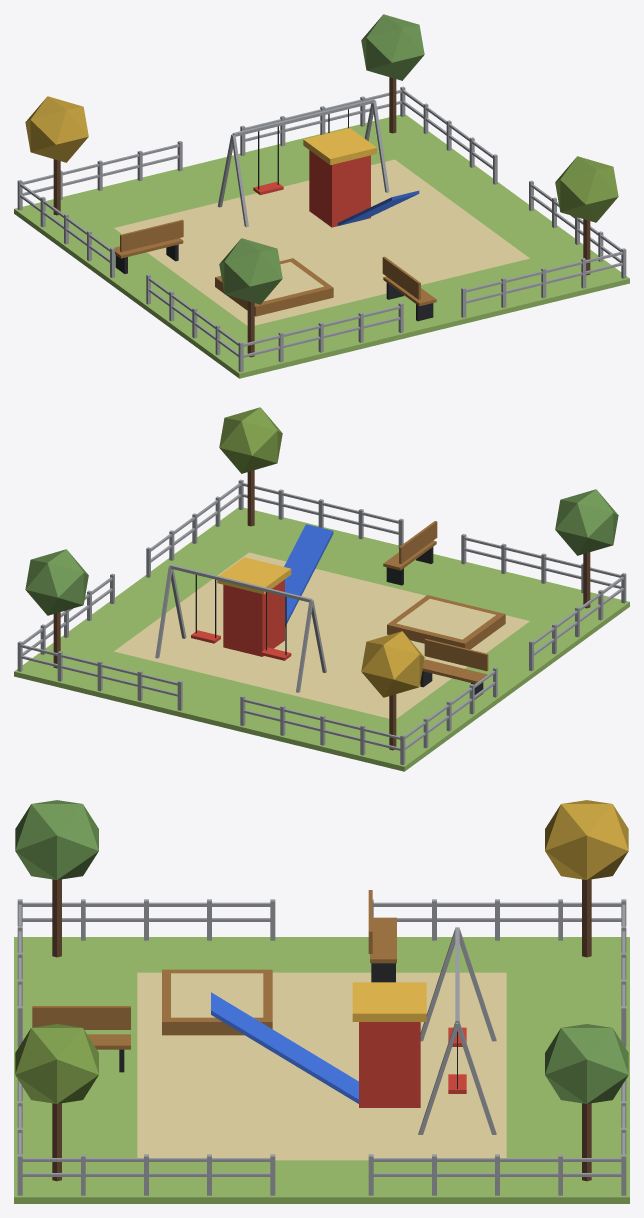
File: Avlu_oyun_Hafif.fbx
3 views of the same model, one above another, from view 1: azimuth 30°, elevation 25°; view 2: azimuth 150°, elevation 25°; view 3: azimuth 270°, elevation 25° (orthographic). The views are drawn at different scales.
Visible parts, largest first — view 1: Avlu_oyun_Hafif; view 2: Avlu_oyun_Hafif; view 3: Avlu_oyun_Hafif.
Part boxes in pixels (left/top/right/bottom): Avlu_oyun_Hafif: left=14, top=14, right=629, bottom=378; Avlu_oyun_Hafif: left=14, top=407, right=629, bottom=771; Avlu_oyun_Hafif: left=14, top=800, right=629, bottom=1203.
Size of the model in its own units: 10 by 2.83 by 10.
